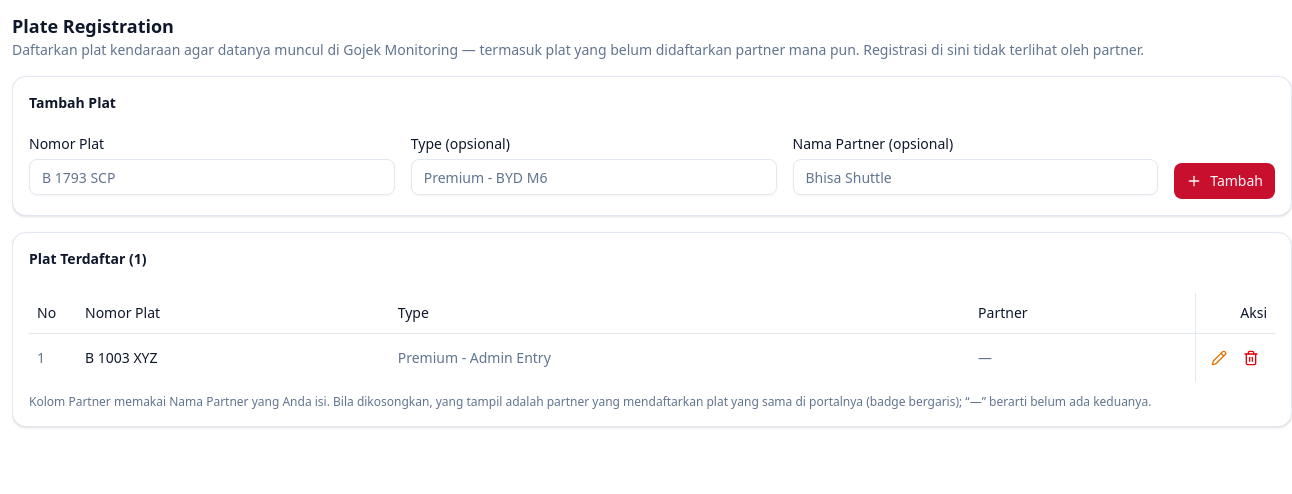
Test: Plate Registration page (super_admin) › falls back to the claiming partner when no name was typed
The width and height of the screenshot is (1292, 494).
Expected: the heading "Plate Registration" is shown, [12,14,174,38]
Type "B 1000 XYZ" into the field labelled "Nomor Plat" at (212, 177), box [29,159,395,195]
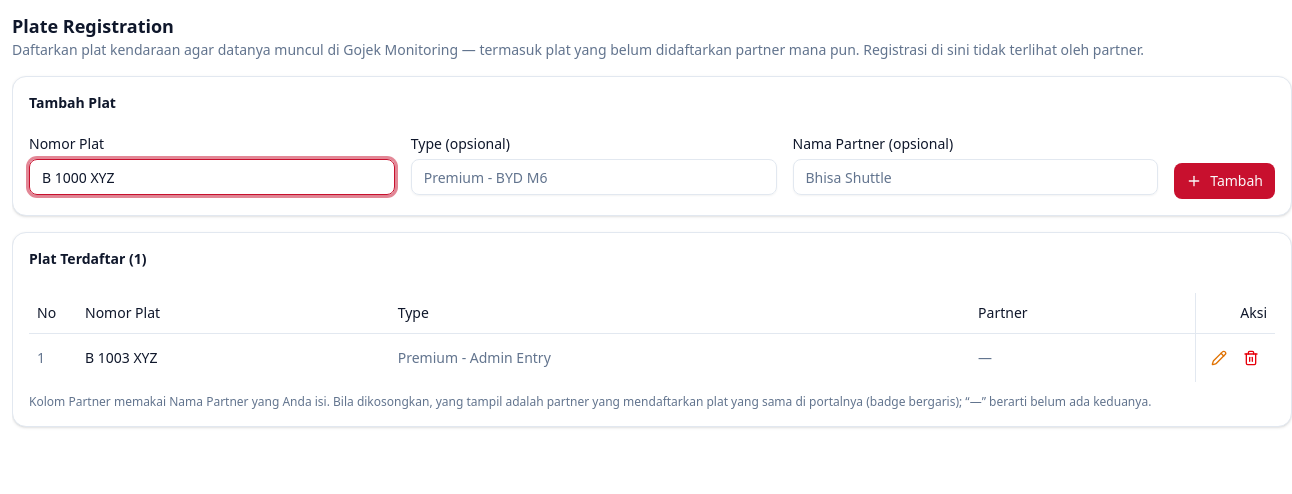
Click the button "Tambah" at (1225, 181), box [1174,163,1275,199]
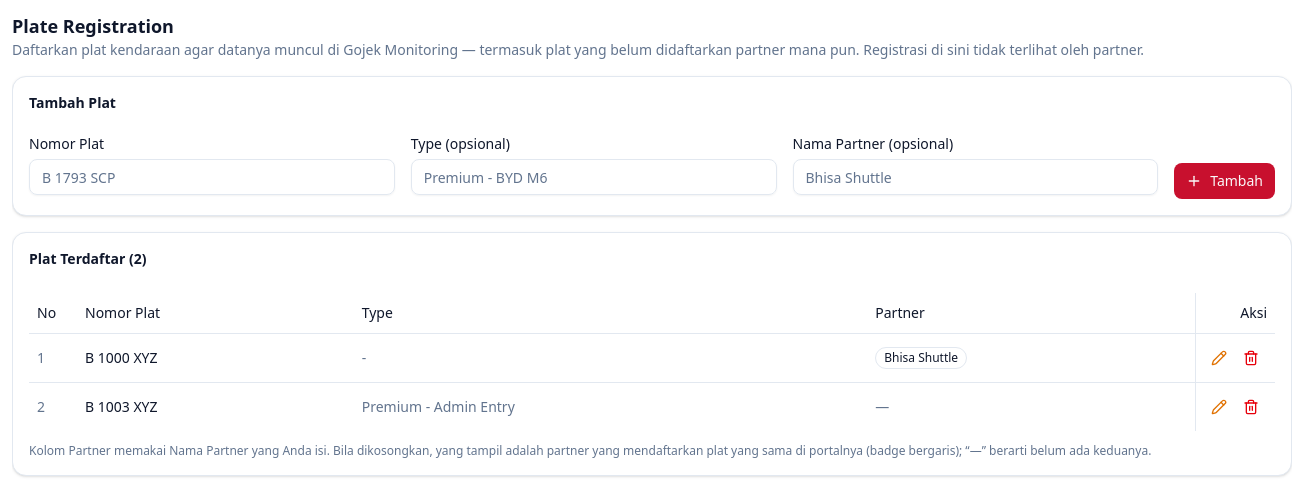
Result: the text "Bhisa Shuttle" is shown at [875,346,967,368]
